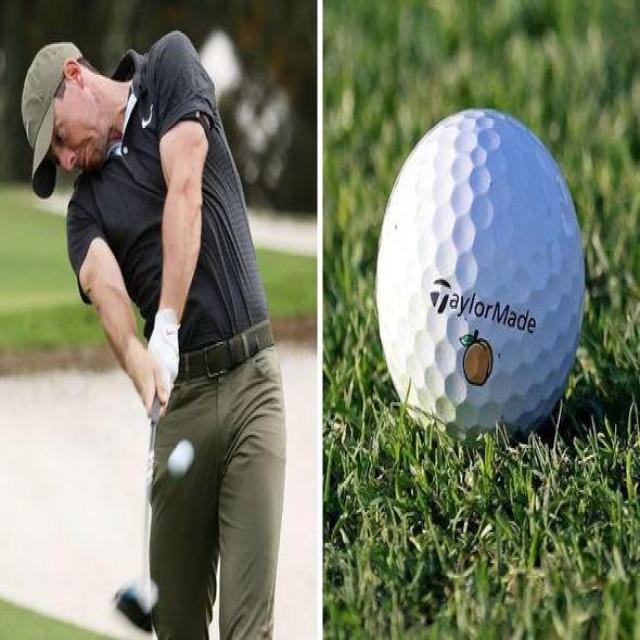ball: (371, 99, 591, 452)
